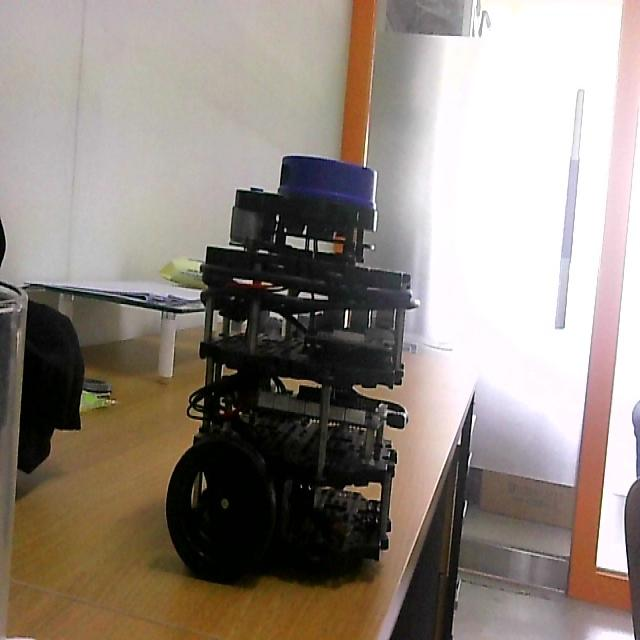turtle: (166, 155, 422, 590)
